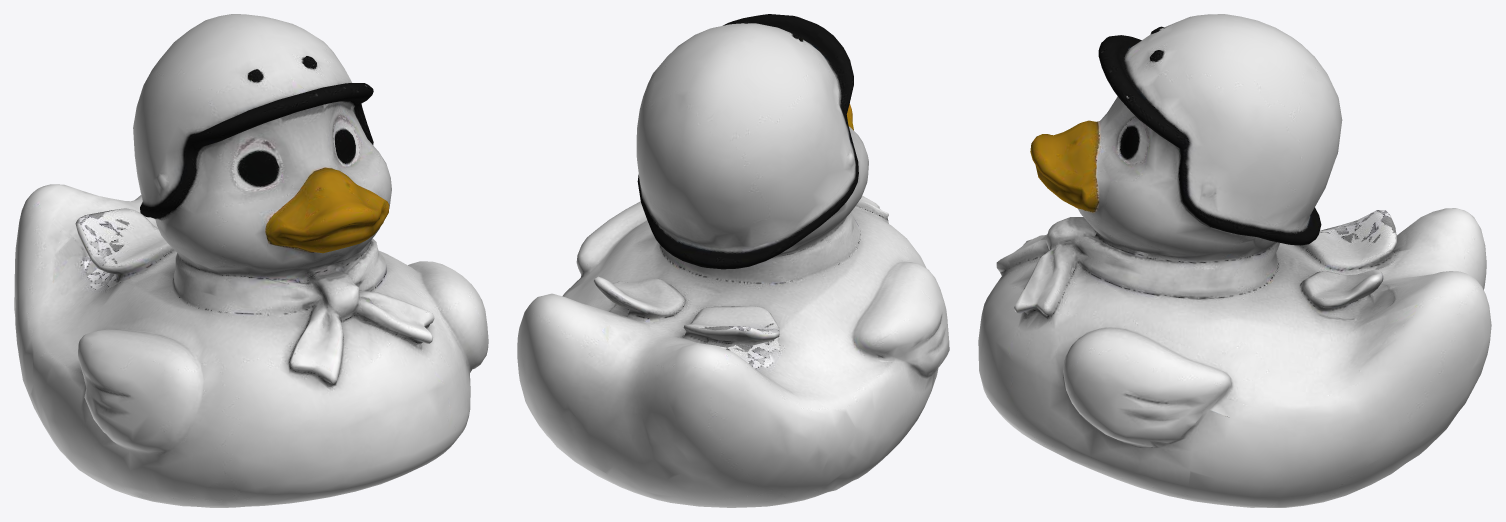
Rendered from duck.glb.
3 renders of one model, left to right at view 1: azimuth 30°, elevation 25°; view 2: azimuth 150°, elevation 25°; view 3: azimuth 270°, elevation 25°, orthographic. The views are drawn at different scales.
Parts seen in each view (by area): view 1: duck; view 2: duck; view 3: duck.
Boxes of the visible parts, left/top/right/bottom form: duck: left=14, top=14, right=488, bottom=507; duck: left=517, top=14, right=949, bottom=507; duck: left=978, top=14, right=1491, bottom=507.
Size of the model in its own units: 1.96 by 2.25 by 2.4.
1 material, 1 textured.
